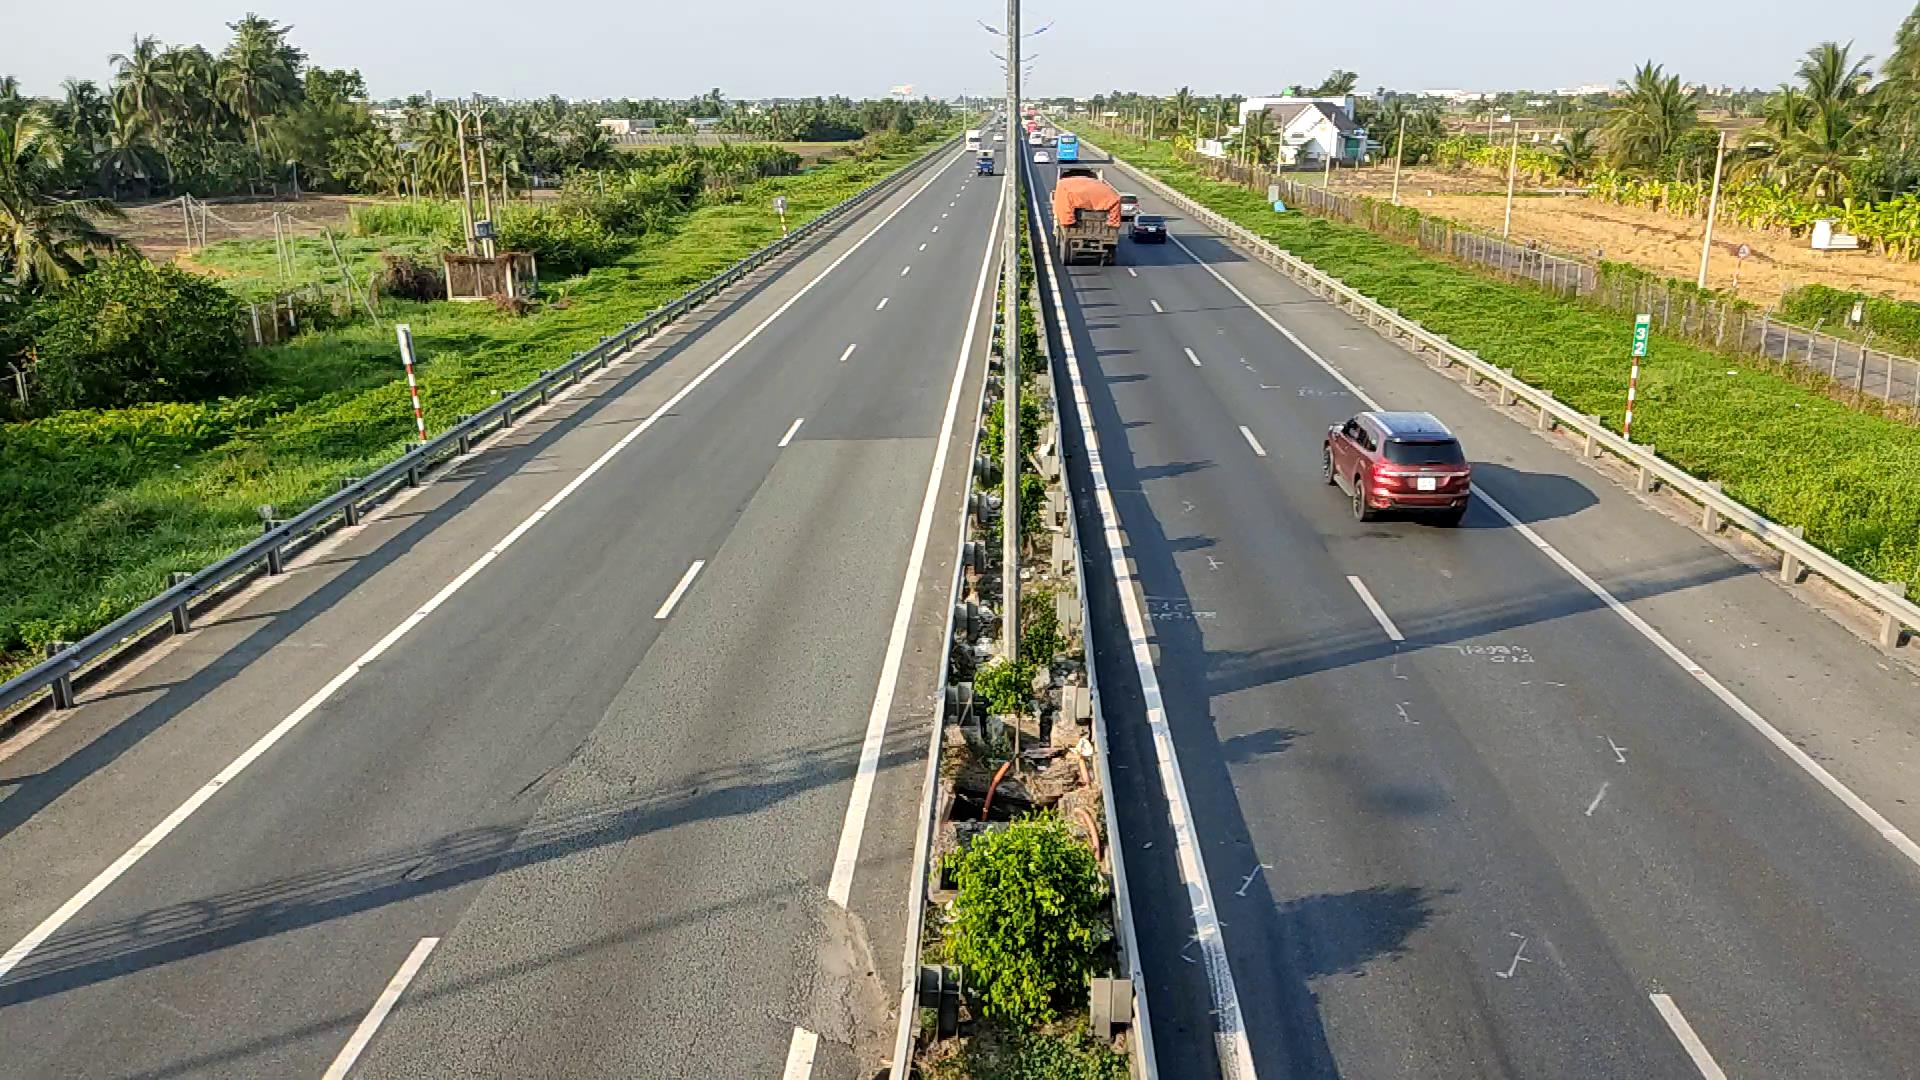car: (1321, 407, 1473, 525), (1129, 212, 1167, 243), (975, 156, 994, 175)
truck: (1052, 173, 1120, 266)
